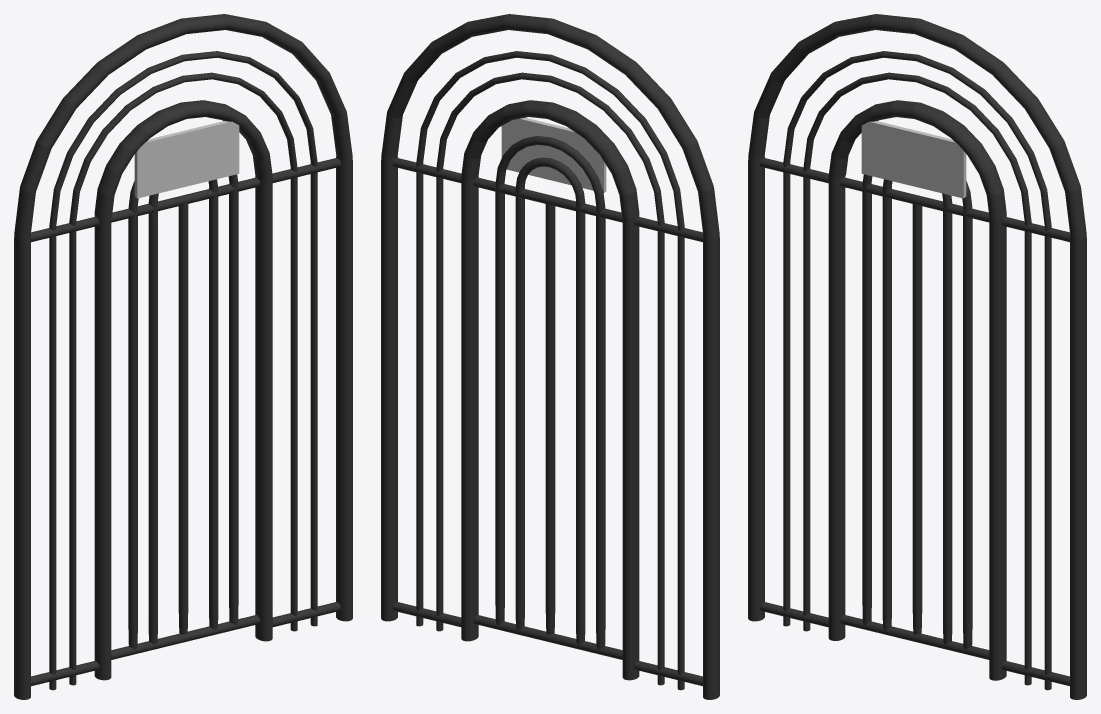
The model's file is Puerta.obj.
The picture shows the model from 3 angles, left to right: view 1: azimuth 30°, elevation 25°; view 2: azimuth 150°, elevation 25°; view 3: azimuth 330°, elevation 25°; orthographic projection.
Parts seen in each view (by area): view 1: Cylinder.001, Cube; view 2: Cylinder.001, Cube; view 3: Cylinder.001, Cube.
Boxes of the visible parts, x1,y1,x2,y2 form: Cylinder.001: (14, 14, 352, 699); Cube: (134, 121, 239, 198); Cylinder.001: (381, 14, 719, 699); Cube: (501, 117, 606, 192); Cylinder.001: (748, 14, 1086, 699); Cube: (861, 121, 966, 198).
Size of the model in its own units: 16.68 by 30.27 by 0.9372.
